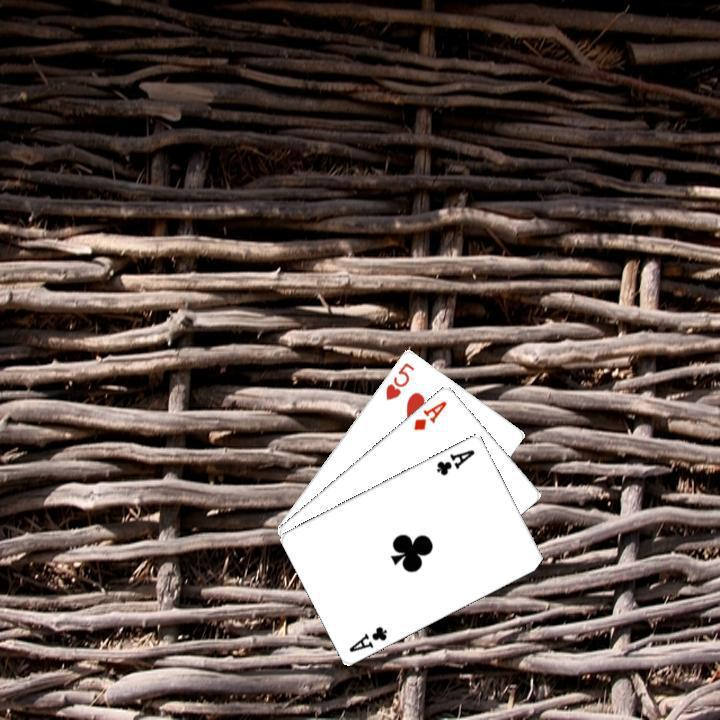5: (381, 358, 417, 402)
A: (345, 621, 389, 654), (409, 396, 449, 432), (432, 445, 477, 477)
